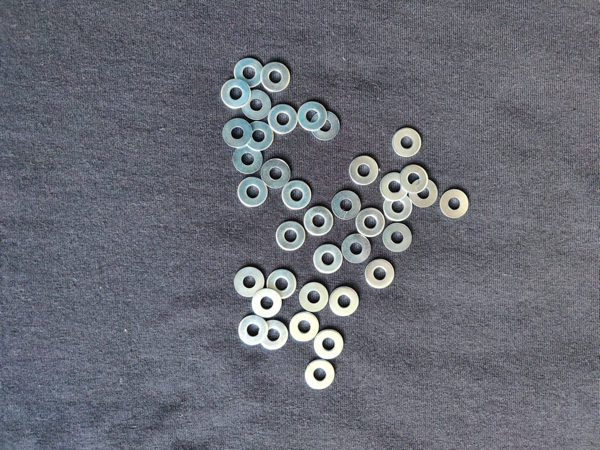circle: (361, 257, 398, 290), (300, 360, 337, 392), (242, 120, 277, 153), (230, 59, 267, 90), (439, 186, 471, 221), (348, 155, 381, 188), (261, 157, 294, 190), (381, 221, 414, 254), (220, 78, 254, 110), (266, 268, 297, 303), (355, 206, 387, 239), (250, 288, 283, 320), (313, 328, 346, 360), (297, 99, 328, 133), (231, 145, 265, 176), (330, 189, 361, 223), (391, 127, 423, 159), (314, 244, 346, 276), (329, 286, 361, 318), (234, 267, 266, 299), (237, 316, 269, 348), (311, 110, 342, 143), (239, 89, 272, 120), (237, 177, 269, 208), (280, 179, 312, 210), (303, 207, 335, 238), (274, 221, 306, 252), (399, 163, 431, 194), (299, 281, 330, 313), (289, 313, 320, 344), (268, 104, 298, 136), (379, 169, 411, 199), (381, 193, 413, 223), (342, 232, 372, 264), (259, 320, 289, 352), (409, 179, 440, 209), (259, 63, 291, 92), (221, 119, 252, 148)
